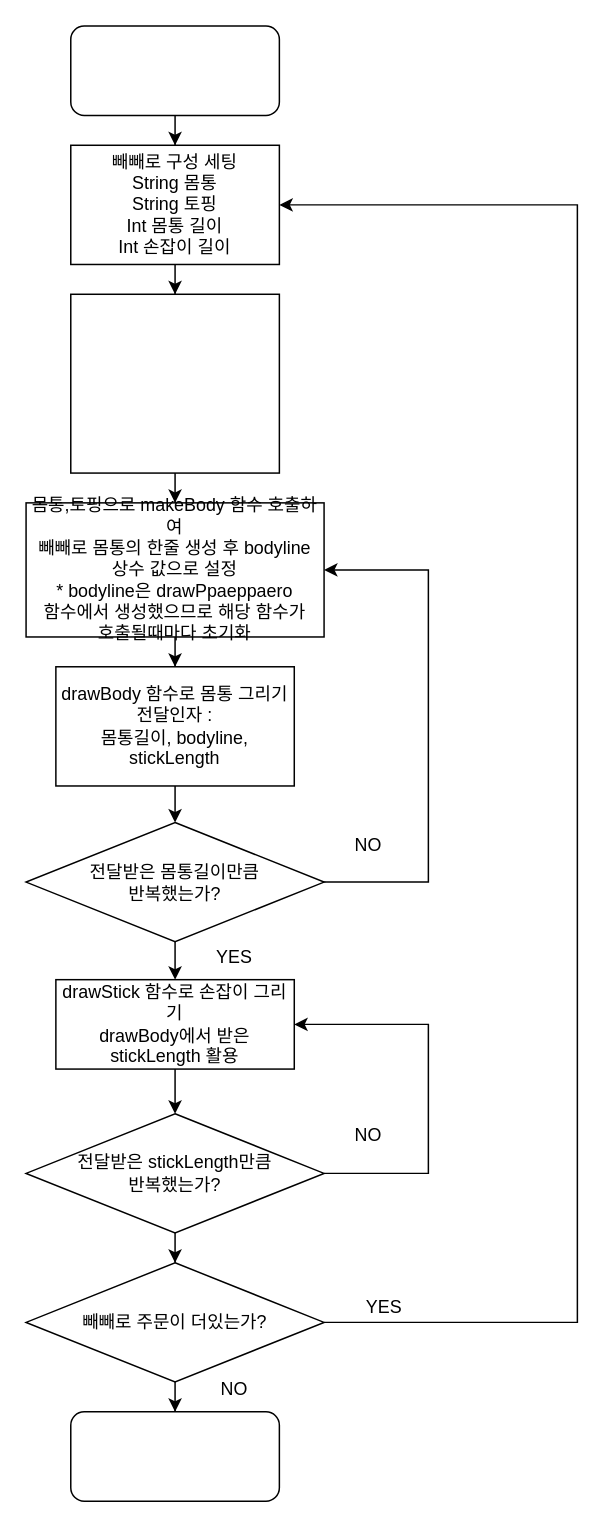
Image size: 615x1527. Some labels were removed from this diagram. Each missing label, with the centre of its shape:
빼빼로 구성 출력 """ <정보> 몸통 : \(몸통) 토핑 : \(토핑) 몸통 길이 : \(몸통 길이) 손잡이 길이 : \(손잡이 길이) """: (x=174, y=383)
빼빼로 만들기 시작!: (x=174, y=70)
빼빼로 만들기 종료!: (x=174, y=1455)
